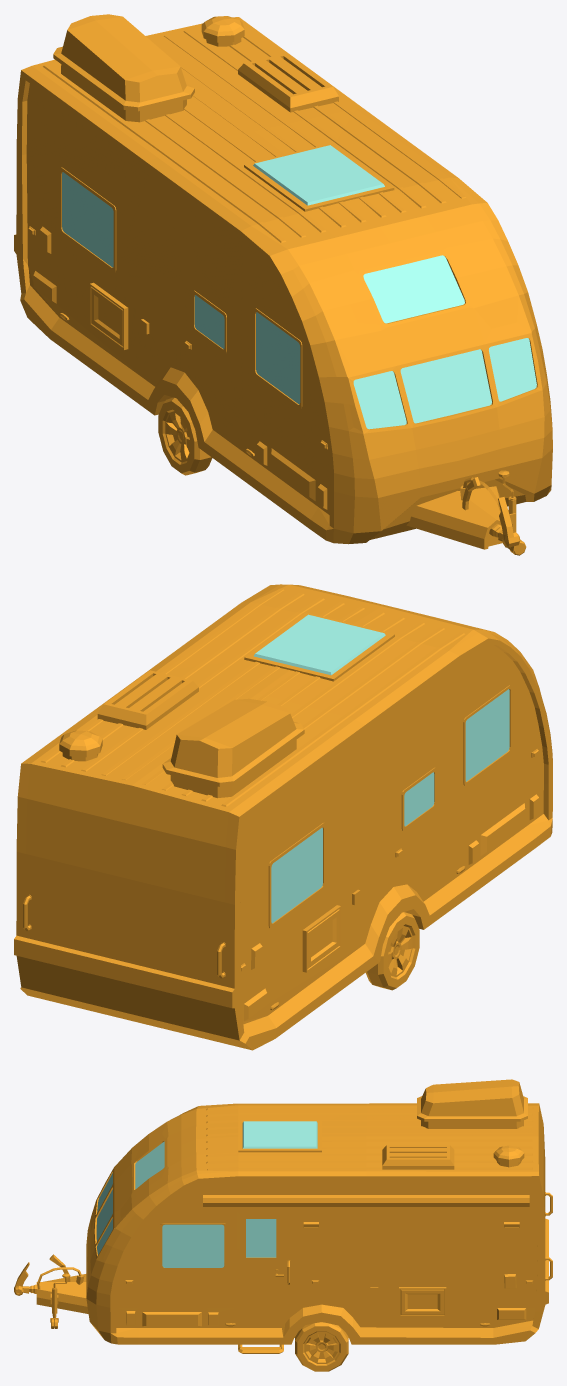
The model's file is SM_Car_Caravan_Modern.fbx.
The picture shows the model from 3 angles, top to bottom: view 1: azimuth 30°, elevation 25°; view 2: azimuth 150°, elevation 25°; view 3: azimuth 270°, elevation 25°; orthographic projection. The views are drawn at different scales.
Visible parts, largest first — view 1: SM_Car_Caravan_Modern_Base, SM_Car_Caravan_Modern_Wheel_R; view 2: SM_Car_Caravan_Modern_Base, SM_Car_Caravan_Modern_Wheel_R; view 3: SM_Car_Caravan_Modern_Base, SM_Car_Caravan_Modern_Door, SM_Car_Caravan_Modern_Wheel_L.
Part boxes in pixels (x1=…): SM_Car_Caravan_Modern_Base: x1=14, y1=14, x2=552, y2=555; SM_Car_Caravan_Modern_Wheel_R: x1=158, y1=397, x2=212, y2=475; SM_Car_Caravan_Modern_Base: x1=14, y1=584, x2=552, y2=1050; SM_Car_Caravan_Modern_Wheel_R: x1=366, y1=912, x2=419, y2=990; SM_Car_Caravan_Modern_Base: x1=14, y1=1079, x2=552, y2=1353; SM_Car_Caravan_Modern_Door: x1=240, y1=1213, x2=283, y2=1327; SM_Car_Caravan_Modern_Wheel_L: x1=295, y1=1322, x2=348, y2=1371.
Bounding box in the file's own units: 3 × 4.07 × 8.6.
